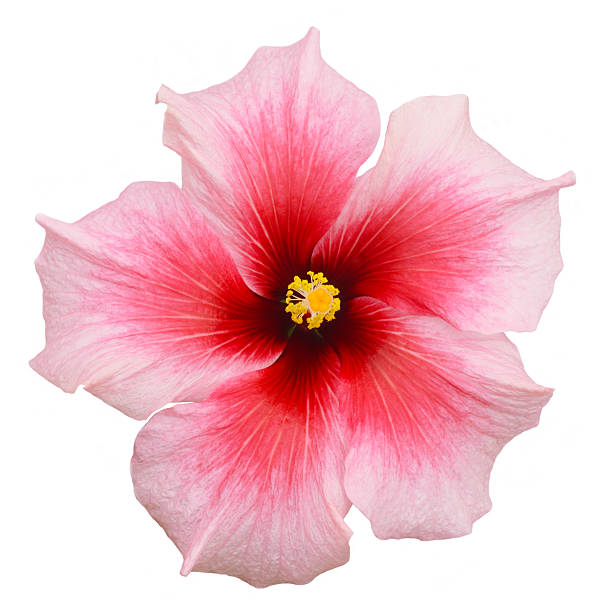Hibiscus: (4, 38, 572, 593)
